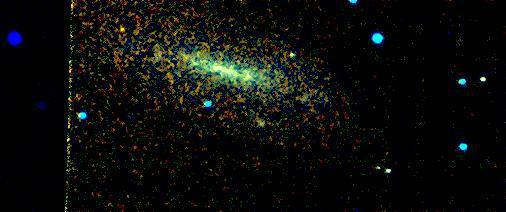star: (109, 19, 139, 49)
